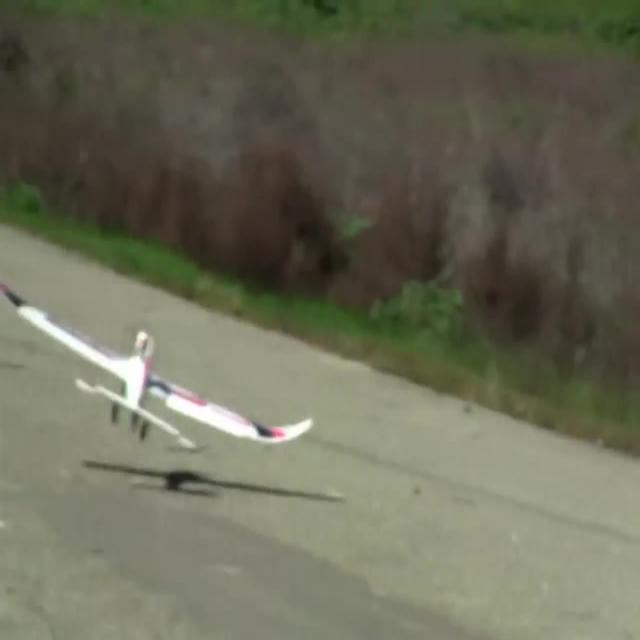iha: (0, 280, 312, 453)
